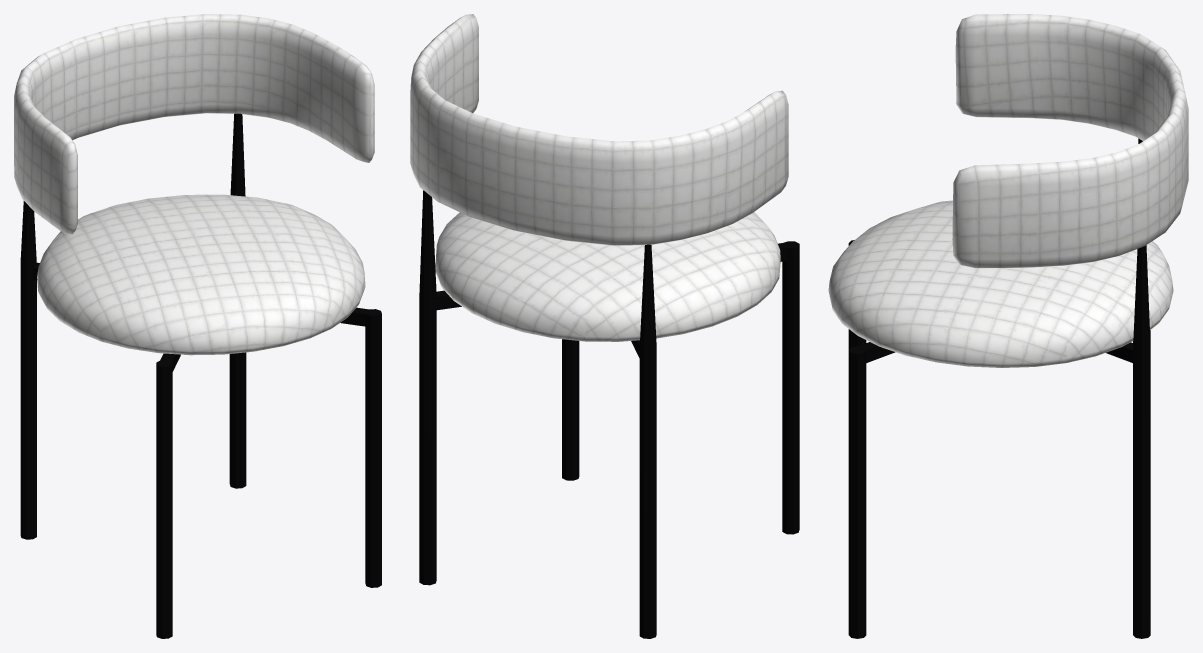
The model's file is chair_004.glb.
3 renders of one model, left to right at view 1: azimuth 30°, elevation 25°; view 2: azimuth 150°, elevation 25°; view 3: azimuth 270°, elevation 25°, orthographic. The views are drawn at different scales.
Parts seen in each view (by area): view 1: Chair_004; view 2: Chair_004; view 3: Chair_004.
Boxes of the visible parts, x1,y1,x2,y2 form: Chair_004: [14, 14, 381, 638]; Chair_004: [410, 14, 799, 638]; Chair_004: [828, 14, 1188, 638].
Size of the model in its own units: 0.5587 by 0.8092 by 0.5355.
1 material, 1 textured.
